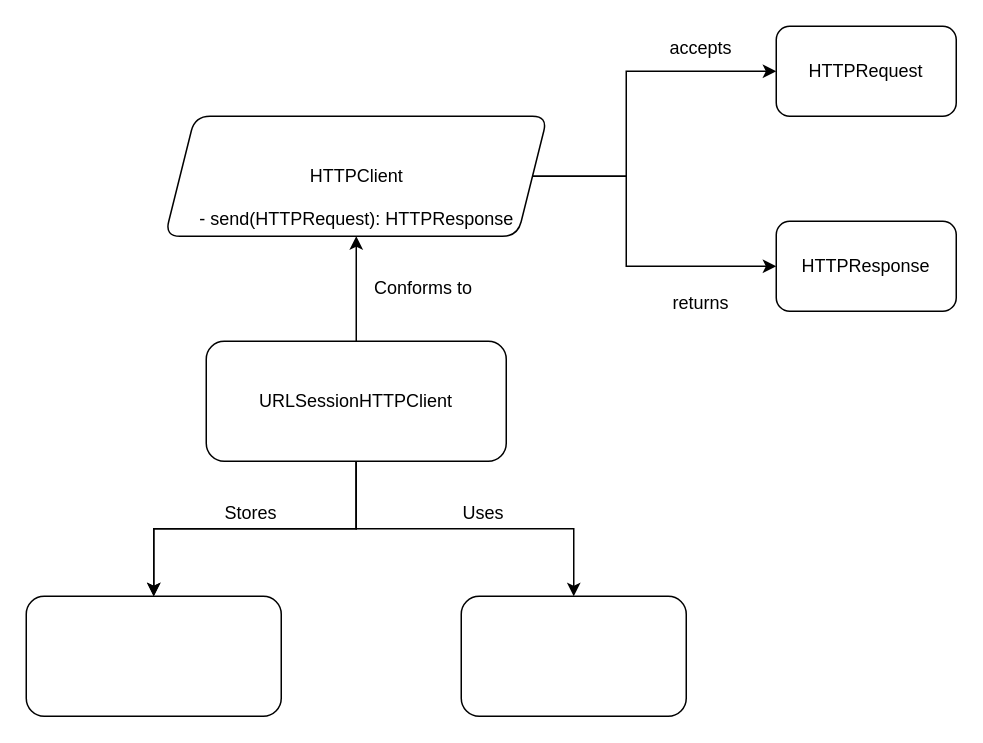
Some shapes in this 983 by 743 pixel diagram are drawn without their labels. The shapes that lost their labels are listed below. From the top down, each one's centre as x and y in pixels, then its label:
At (x=153, y=655): "HTTPClientConfiguration".
At (x=573, y=655): "URLSession".
